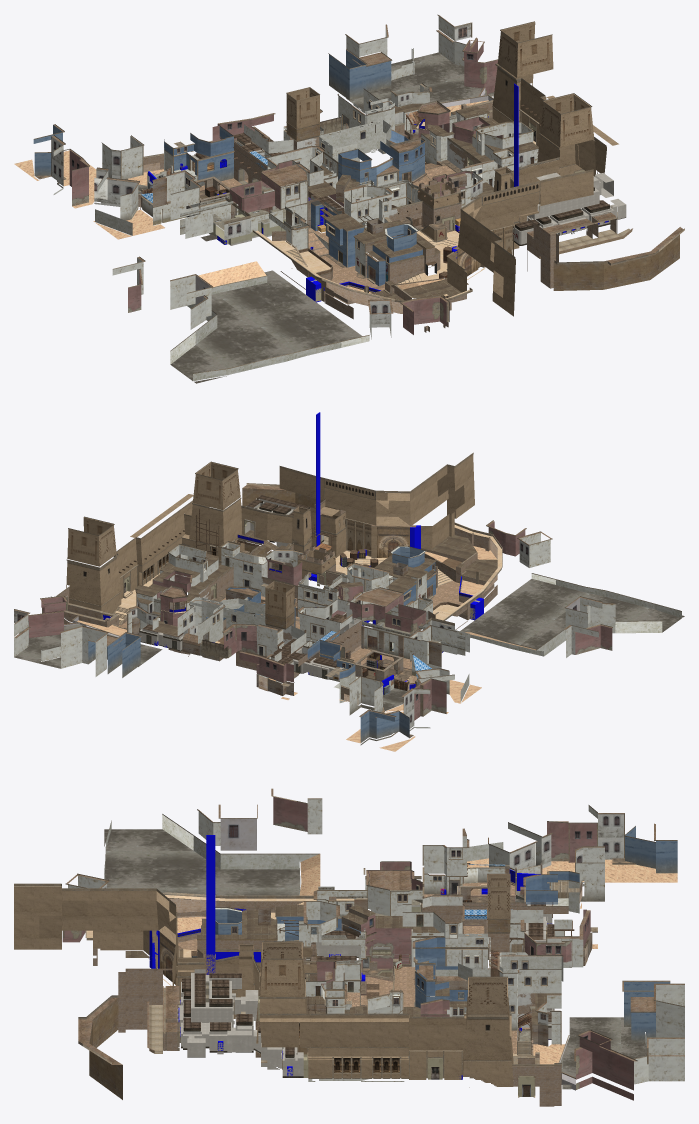
Rendered from mirage_bsp.glb.
3 renders of one model, top to bottom at view 1: azimuth 30°, elevation 25°; view 2: azimuth 150°, elevation 25°; view 3: azimuth 270°, elevation 25°, orthographic. The views are drawn at different scales.
Parts seen in each view (by area): view 1: de_mirage_cs2_world; view 2: de_mirage_cs2_world; view 3: de_mirage_cs2_world.
Boxes of the visible parts, x1,y1,x2,y2 form: de_mirage_cs2_world: (14,14,684,383); de_mirage_cs2_world: (14,412,684,751); de_mirage_cs2_world: (14,788,684,1106).
Size of the model in its own units: 115 by 38.12 by 115.
171 materials, 171 textured.
